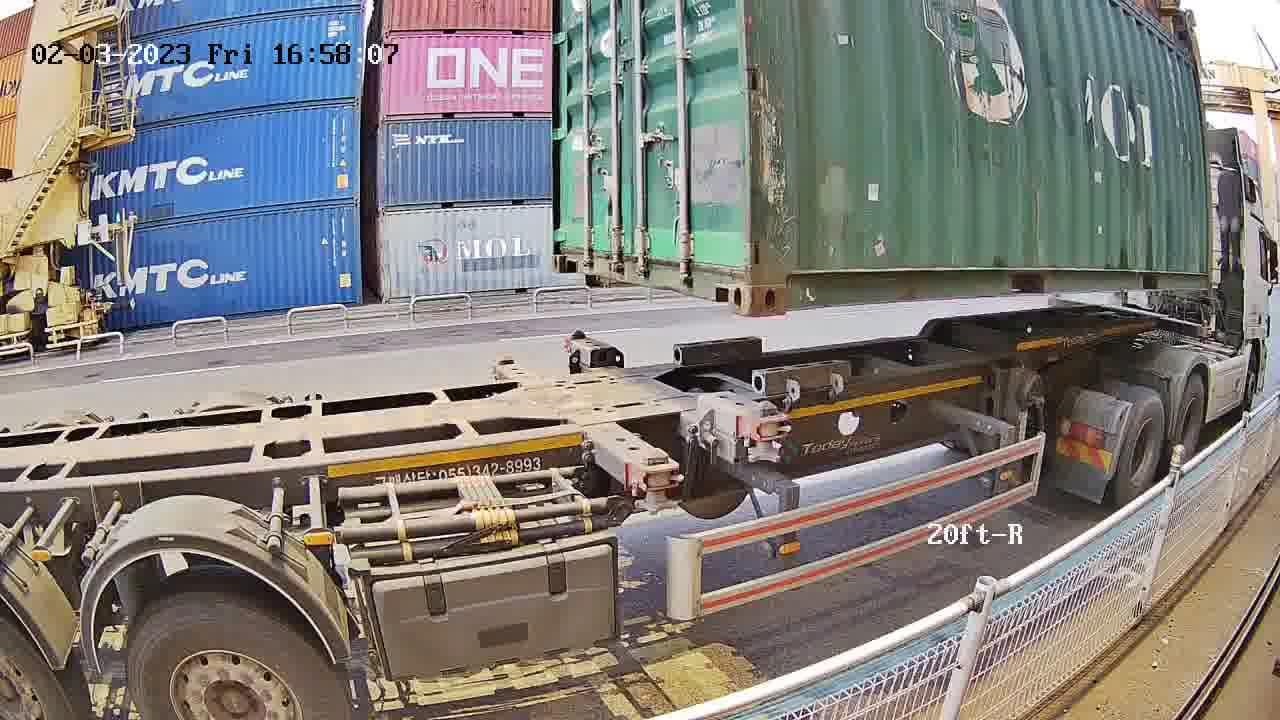Chassis: (568, 333, 780, 438)
Cone: (743, 399, 788, 464), (565, 327, 588, 341)
Hole_L: (749, 247, 820, 320), (553, 225, 583, 273)
Hole_R: (704, 243, 752, 319)
Tire: (1116, 397, 1166, 509), (1170, 373, 1207, 463)
